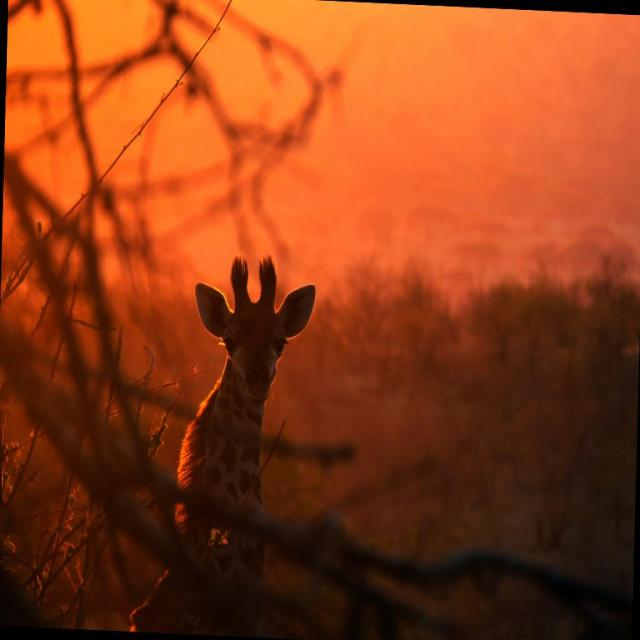Giraffe: (155, 253, 318, 606)
